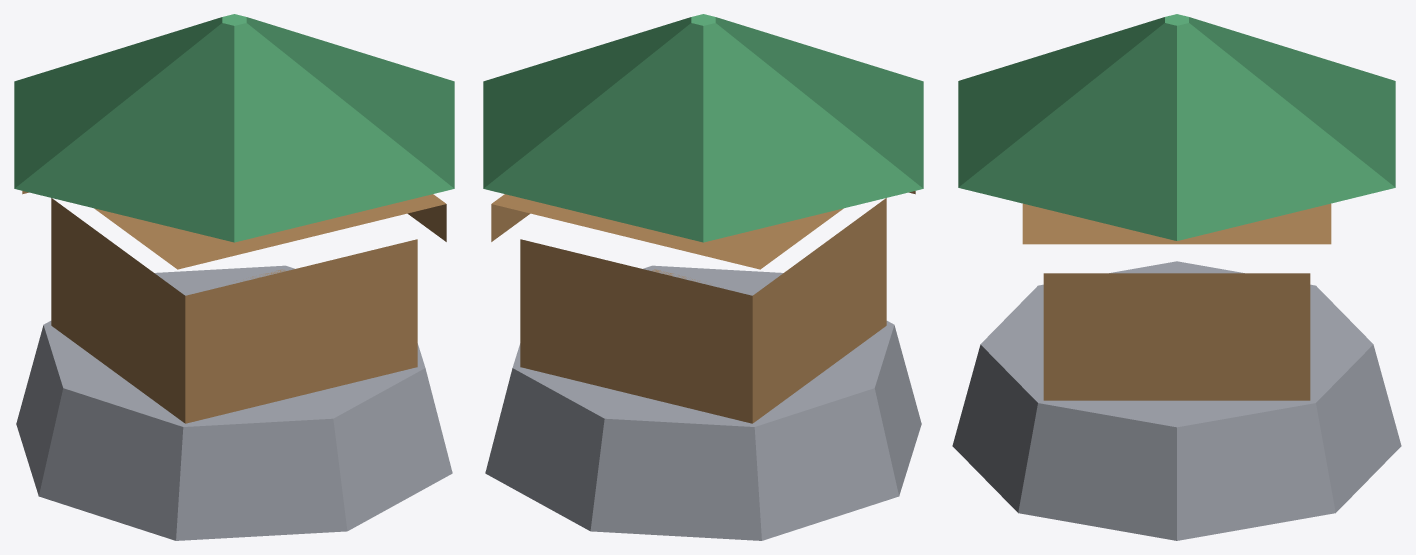
Rendered from tower_archer_detailed.glb.
3 renders of one model, left to right at view 1: azimuth 30°, elevation 25°; view 2: azimuth 150°, elevation 25°; view 3: azimuth 270°, elevation 25°, orthographic.
Parts seen in each view (by area): view 1: RoofCanopy, BaseStone, TimberGallery, BattlementPlatform; view 2: RoofCanopy, BaseStone, TimberGallery, BattlementPlatform; view 3: RoofCanopy, BaseStone, TimberGallery, BattlementPlatform.
Part boxes in pixels (x1,y1,x2,y2): RoofCanopy: [14, 14, 454, 242]; BaseStone: [16, 265, 452, 540]; TimberGallery: [51, 198, 417, 423]; BattlementPlatform: [22, 191, 446, 269]; RoofCanopy: [483, 14, 923, 242]; BaseStone: [485, 265, 921, 540]; TimberGallery: [520, 198, 886, 423]; BattlementPlatform: [491, 191, 915, 269]; RoofCanopy: [958, 14, 1395, 240]; BaseStone: [952, 261, 1401, 540]; TimberGallery: [1043, 273, 1310, 400]; BattlementPlatform: [1022, 203, 1331, 244].
Bounding box in the file's own units: 3.6 × 3.35 × 3.2.
